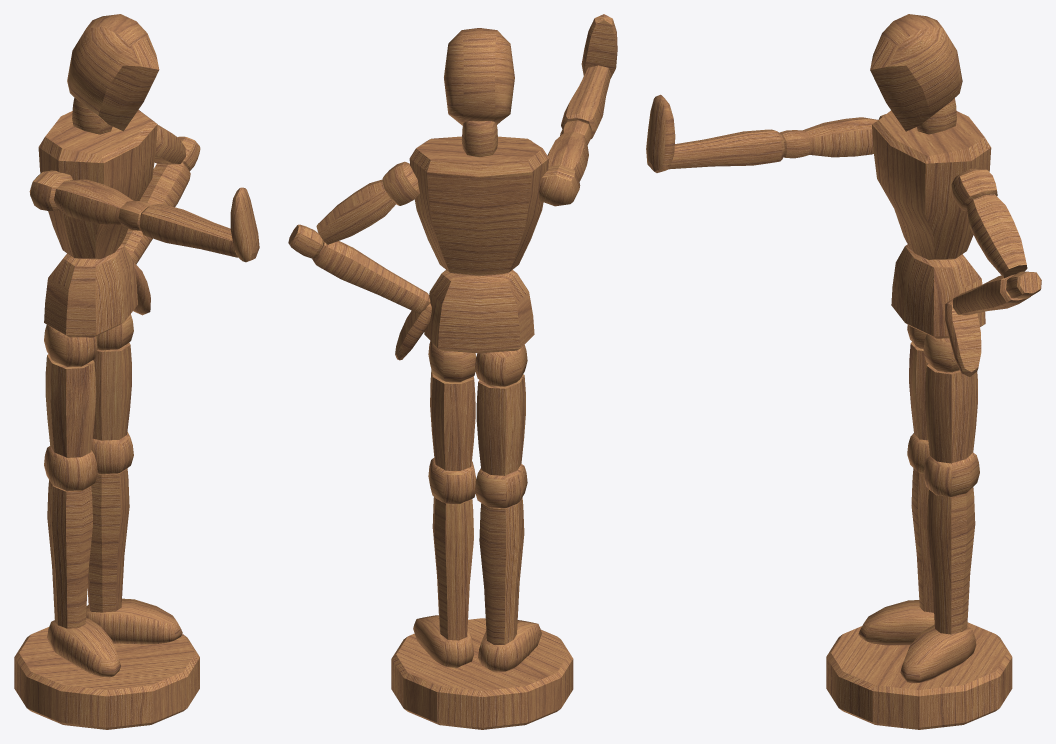
Rendered from SM_mannequin_01.fbx.
The picture shows the model from 3 angles, left to right: view 1: azimuth 30°, elevation 25°; view 2: azimuth 150°, elevation 25°; view 3: azimuth 270°, elevation 25°; orthographic projection. The views are drawn at different scales.
Visible parts, largest first — view 1: mannequin06; view 2: mannequin06; view 3: mannequin06.
Boxes of the visible parts, left/top/right/bottom form: mannequin06: left=14, top=14, right=259, bottom=729; mannequin06: left=288, top=14, right=617, bottom=729; mannequin06: left=646, top=14, right=1041, bottom=729.
Bounding box in the file's own units: 6.08 × 16.98 × 9.01.
1 material, 1 textured.
